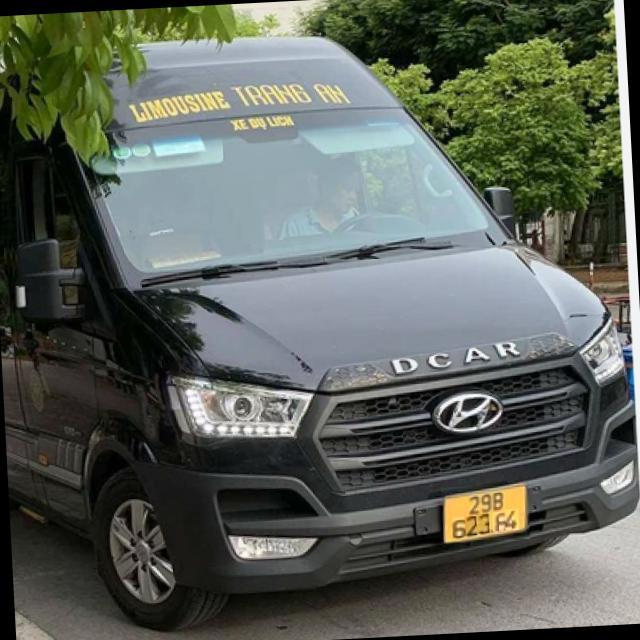car: (0, 59, 640, 613)
plate: (437, 482, 536, 548)
